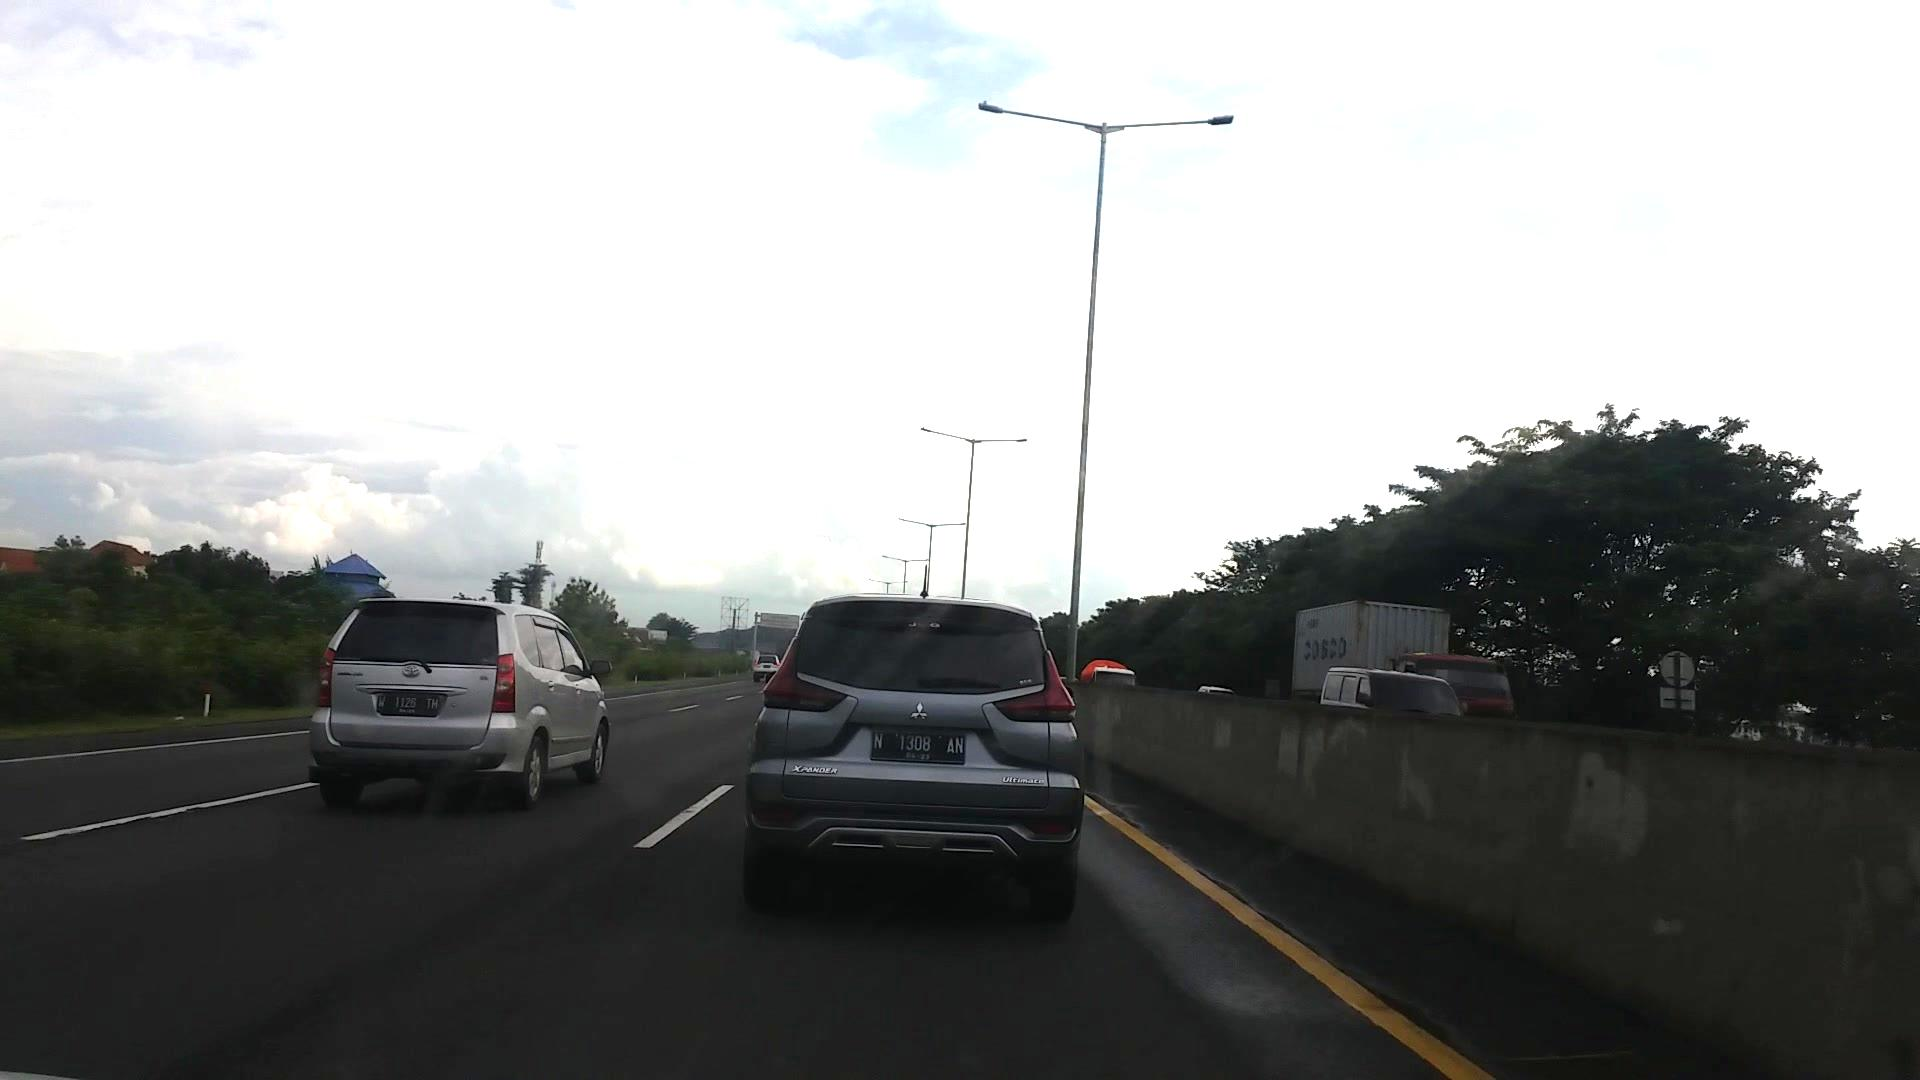plate_positive: (872, 727, 965, 764)
